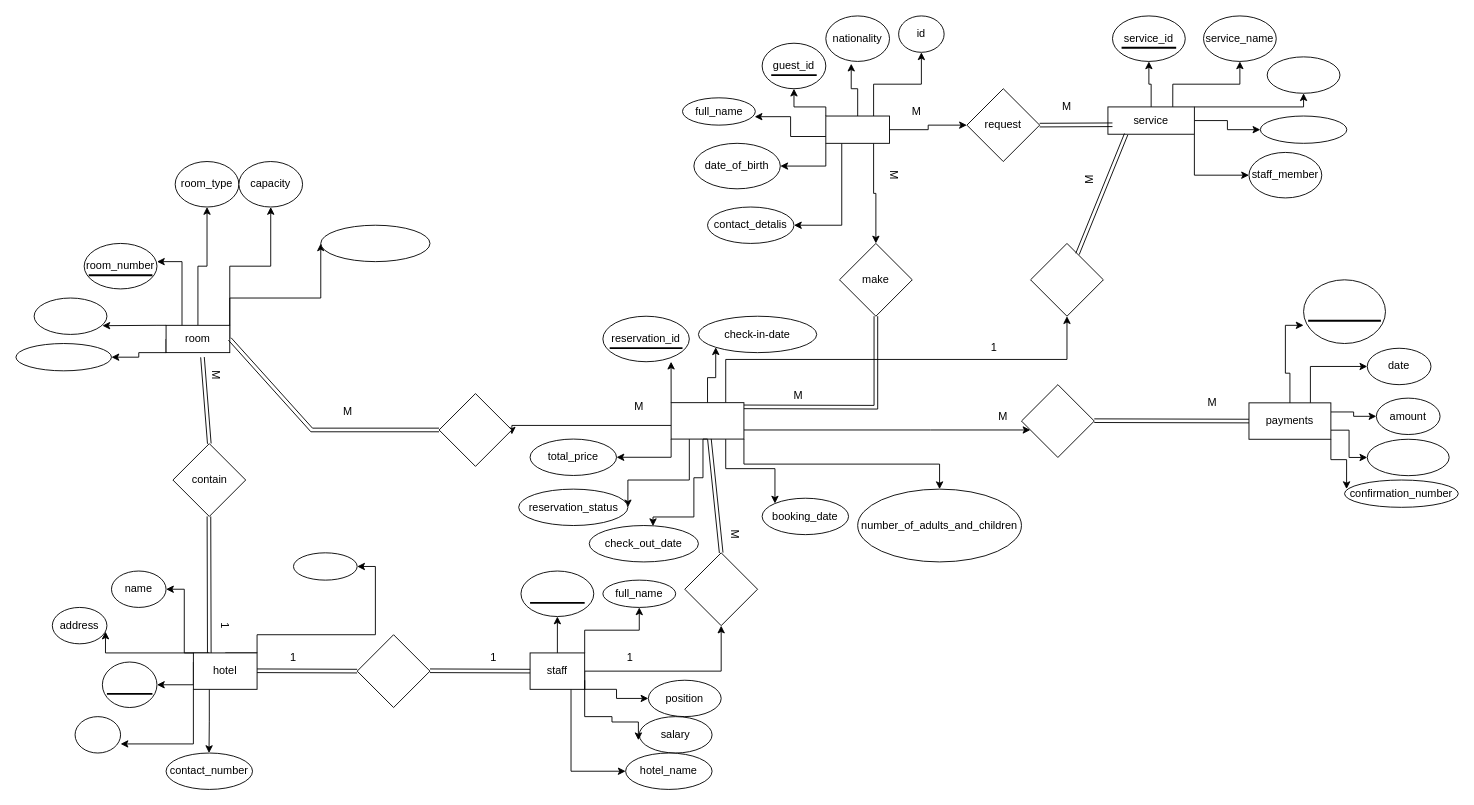
The diagram is 1474 pixels wide and 805 high, and some of its shapes have lost their labels. The box of each missing label's shape, as (x1, y1, x2, y2) in pixels:
amenities: (15, 343, 111, 371)
assigned to: (684, 552, 758, 626)
associated: (1021, 384, 1094, 457)
availability_status: (320, 224, 430, 262)
books: (438, 393, 512, 466)
charge: (1259, 115, 1347, 143)
city: (74, 716, 121, 753)
daily_rate: (33, 297, 107, 334)
guest: (825, 115, 890, 143)
HAVE: (1030, 243, 1103, 316)
hotel_id: (101, 661, 157, 708)
manage: (356, 634, 430, 708)
method: (1366, 438, 1449, 476)
payment_id: (1303, 279, 1385, 344)
request_date: (1266, 56, 1340, 93)
reservation: (670, 402, 744, 439)
staff_id: (520, 570, 594, 617)
star_rating: (293, 552, 357, 580)
